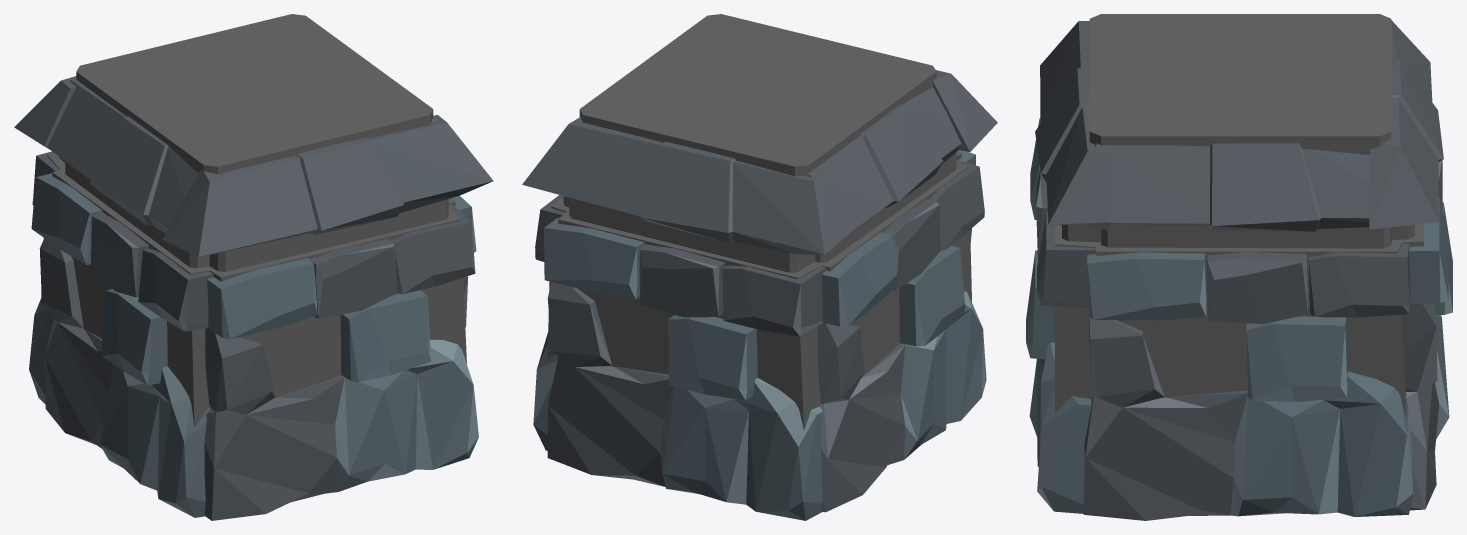
Rendered from MCastle_GiantPillar_Block_01.FBX.
The picture shows the model from 3 angles, left to right: view 1: azimuth 30°, elevation 25°; view 2: azimuth 150°, elevation 25°; view 3: azimuth 270°, elevation 25°; orthographic projection. The views are drawn at different scales.
Visible parts, largest first — view 1: MCastle_GiantPillar_Block_01_LOD0; view 2: MCastle_GiantPillar_Block_01_LOD0; view 3: MCastle_GiantPillar_Block_01_LOD0.
Part boxes in pixels (left/top/right/bottom): MCastle_GiantPillar_Block_01_LOD0: left=14, top=14, right=493, bottom=520; MCastle_GiantPillar_Block_01_LOD0: left=522, top=14, right=997, bottom=520; MCastle_GiantPillar_Block_01_LOD0: left=1026, top=14, right=1452, bottom=520.
Size of what is drawn, in the model's own units: 3.55 by 3.66 by 3.78.
